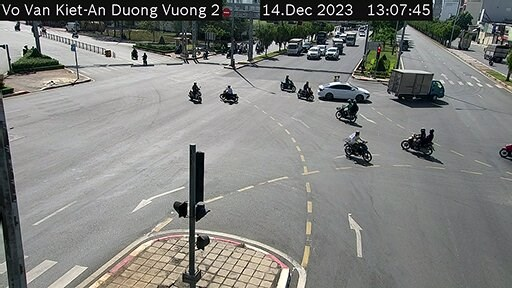car: (320, 75, 371, 105), (328, 45, 339, 60), (306, 46, 318, 59)
motorbike: (403, 122, 438, 156), (340, 129, 369, 162), (334, 101, 357, 121), (220, 85, 239, 107), (188, 81, 202, 103), (278, 73, 294, 92), (294, 81, 310, 100)
truck: (391, 68, 444, 99), (286, 37, 304, 56)
